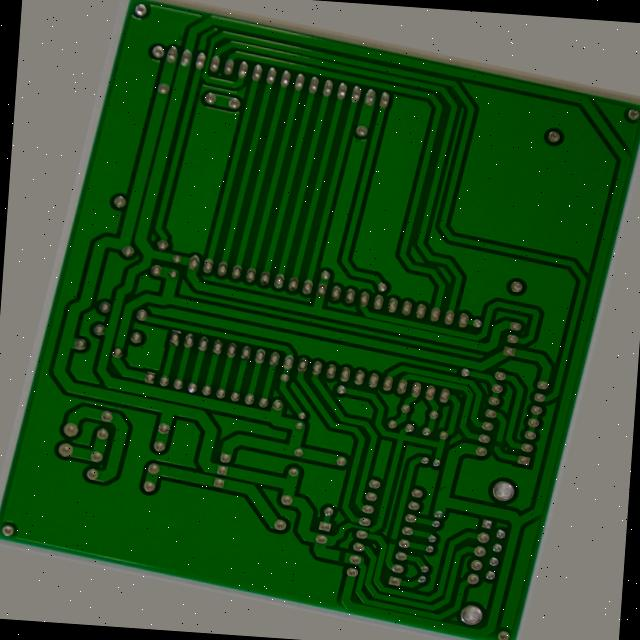open_circuit: (384, 569, 402, 587), (442, 545, 457, 562), (543, 421, 559, 436)
